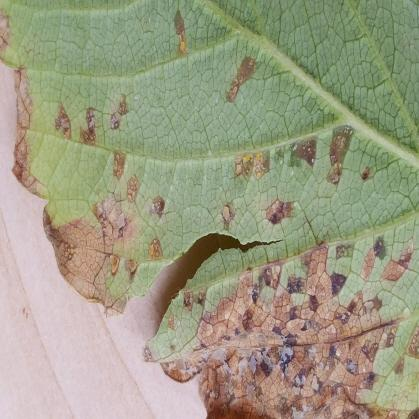Angular Leafspot: (0, 1, 418, 418)
